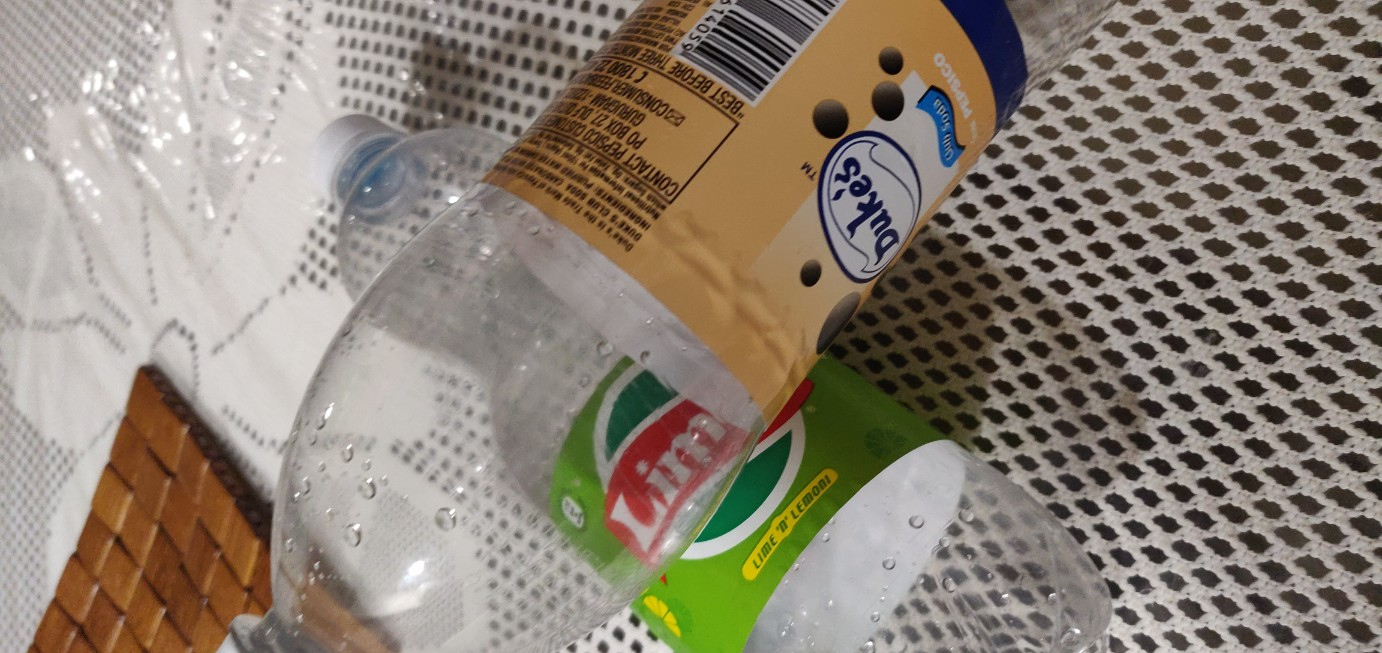Electronics: (233, 1, 1113, 652), (283, 73, 1148, 653)
